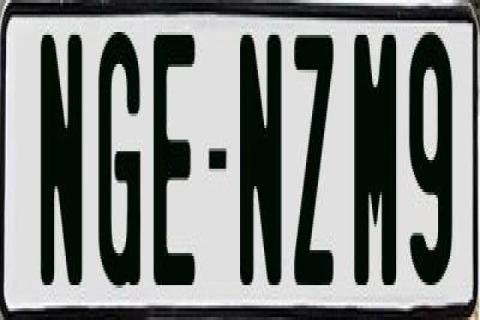0: (407, 27, 455, 280)
E: (152, 26, 194, 291)
G: (96, 26, 142, 282)
M: (352, 29, 396, 285)
N: (38, 32, 82, 291), (240, 32, 280, 300)
Z: (290, 35, 336, 285)
